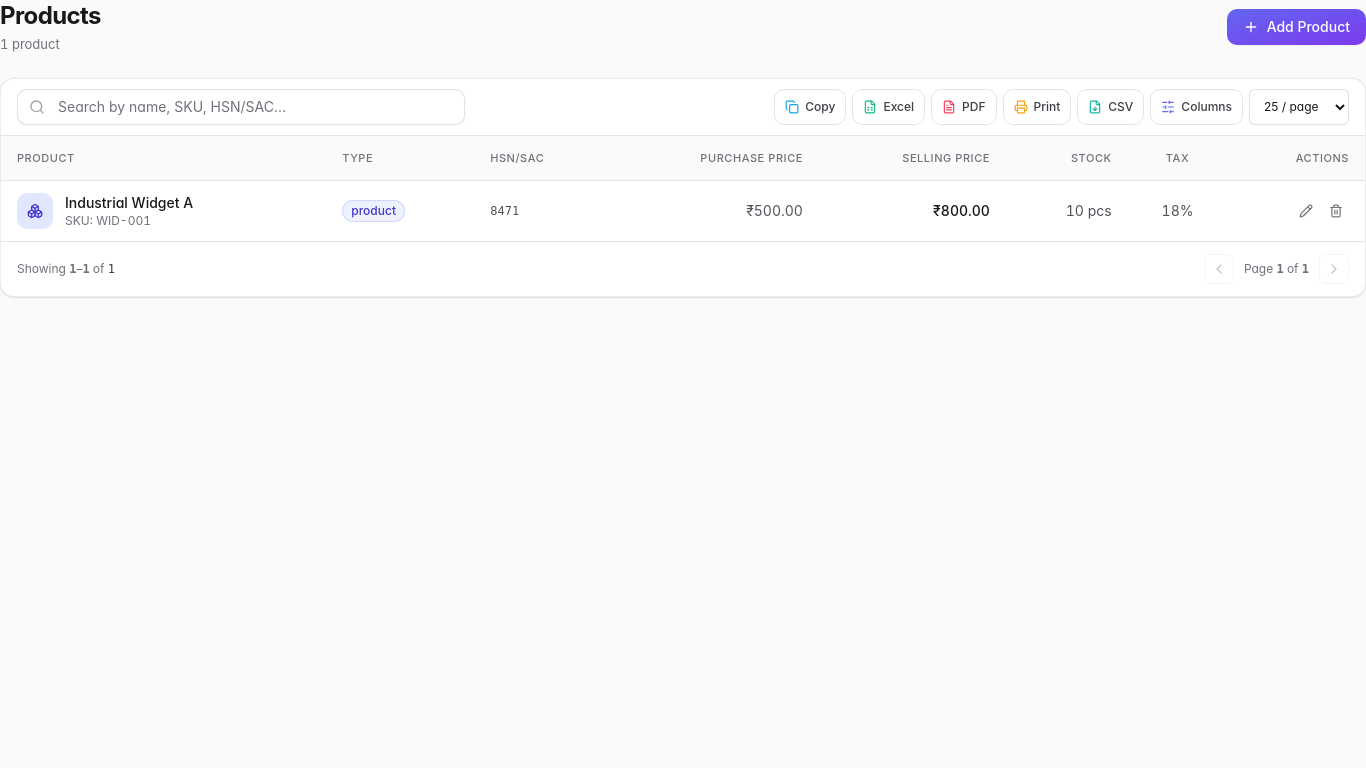
Test: ProductsPage Delete Action › calls deleteProduct and shows success toast on confirmation
This screenshot has width=1366, height=768.
Later steps or results of the test are not shown.
Expected: the text "Industrial Widget A" is shown, [65,193,193,213]
Click the button titled "Delete product". click: (1336, 211)
box: [1323,198,1349,224]
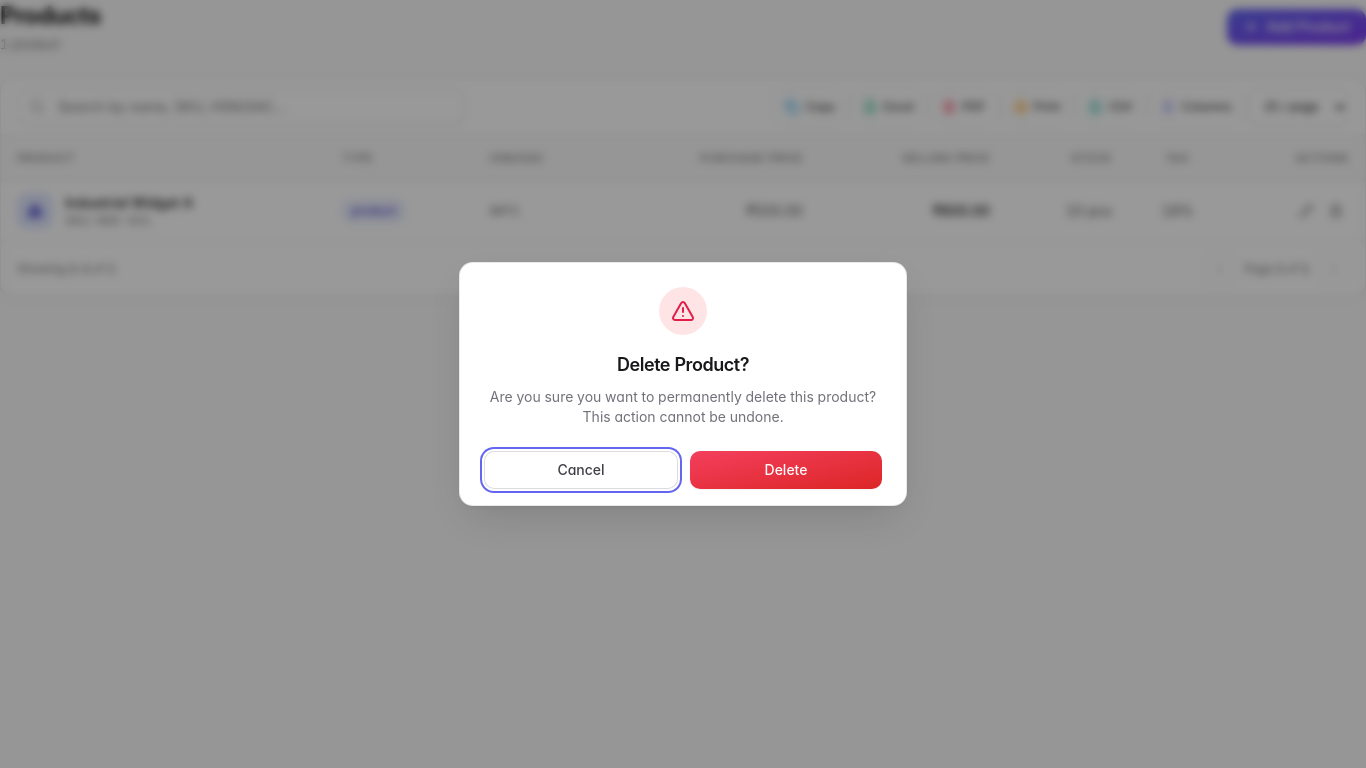
Result: the heading "Delete Product?" is shown at [617,351,749,379]
